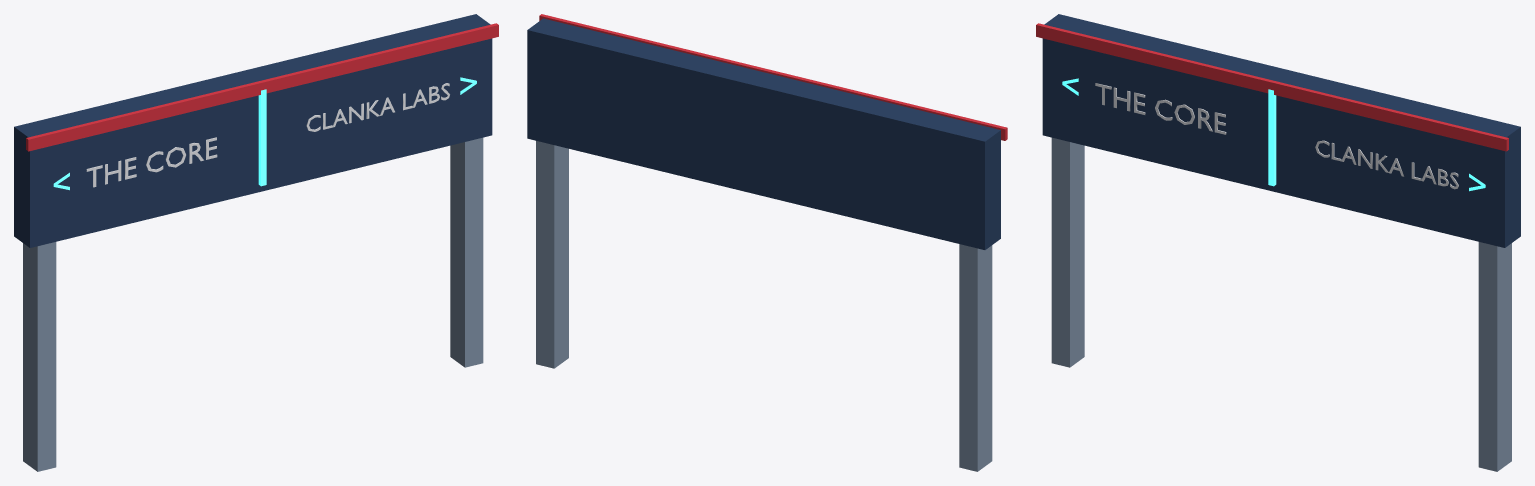
The model's file is rt_wayfinding_sign.glb.
3 renders of one model, left to right at view 1: azimuth 30°, elevation 25°; view 2: azimuth 150°, elevation 25°; view 3: azimuth 330°, elevation 25°, orthographic.
Parts seen in each view (by area): view 1: rt_wayfinding_sign; view 2: rt_wayfinding_sign; view 3: rt_wayfinding_sign.
Part boxes in pixels (x1,y1,x2,y2): rt_wayfinding_sign: [14, 14, 498, 471]; rt_wayfinding_sign: [527, 14, 1007, 471]; rt_wayfinding_sign: [1036, 14, 1520, 471].
Bounding box in the file's own units: 4.58 × 3.14 × 0.316.
